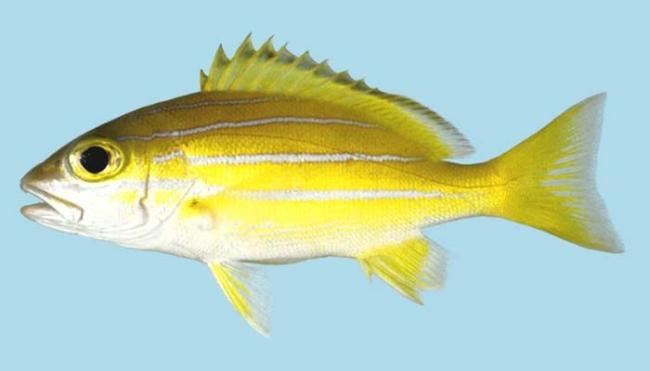fish: (19, 31, 626, 339)
